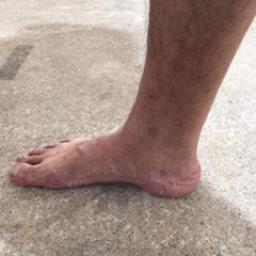Medial View -Right Foot-: (6, 80, 216, 208)
